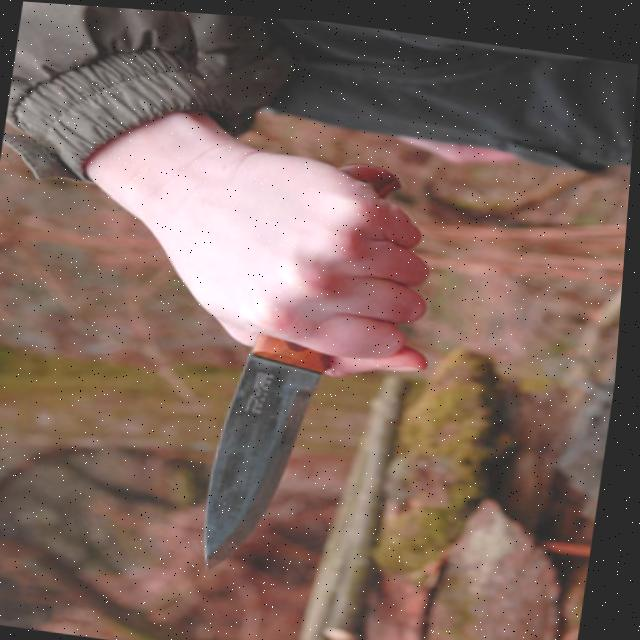knife: (185, 326, 337, 578)
